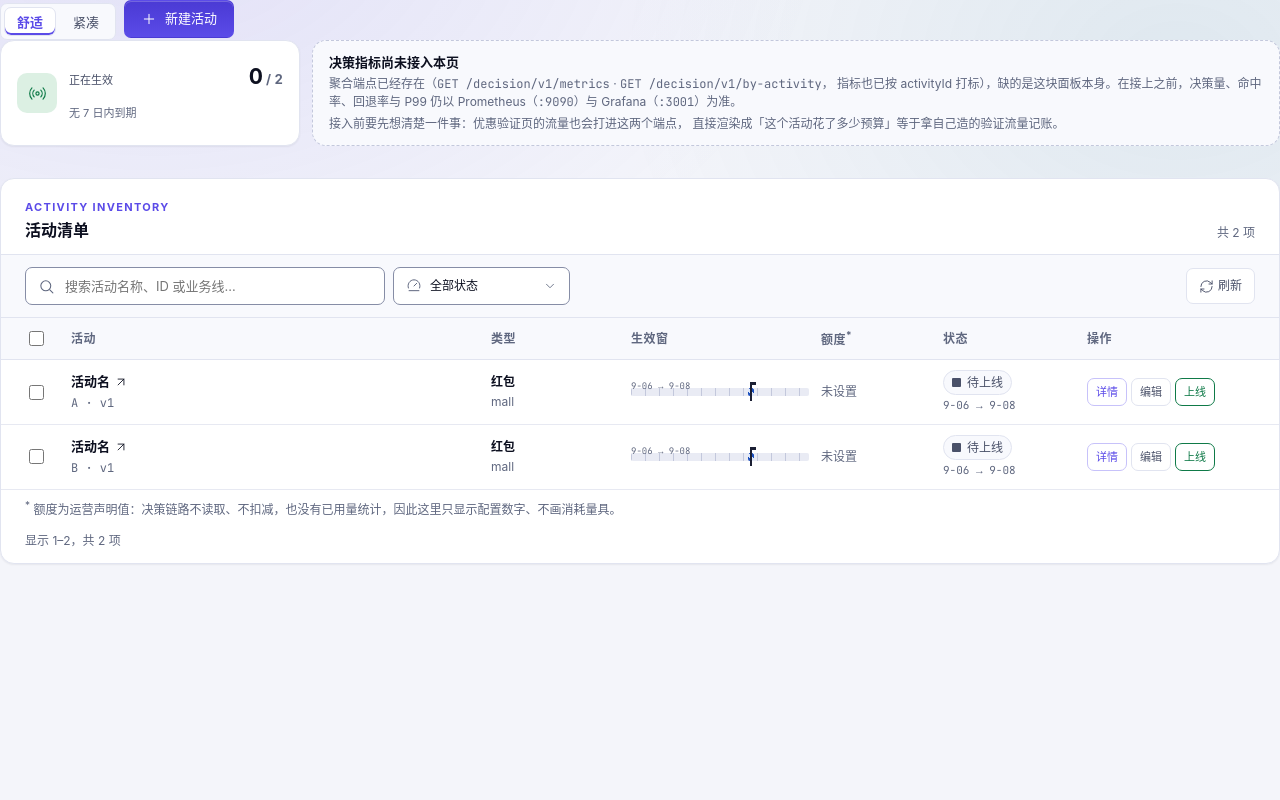
Test: ListView 工作台 › 勾选行后压出批量操作条并给出计数
This screenshot has width=1280, height=800.
Step 1. Click the checkbox with test id "row-check-A" → (36, 392), box [29,385,44,400]
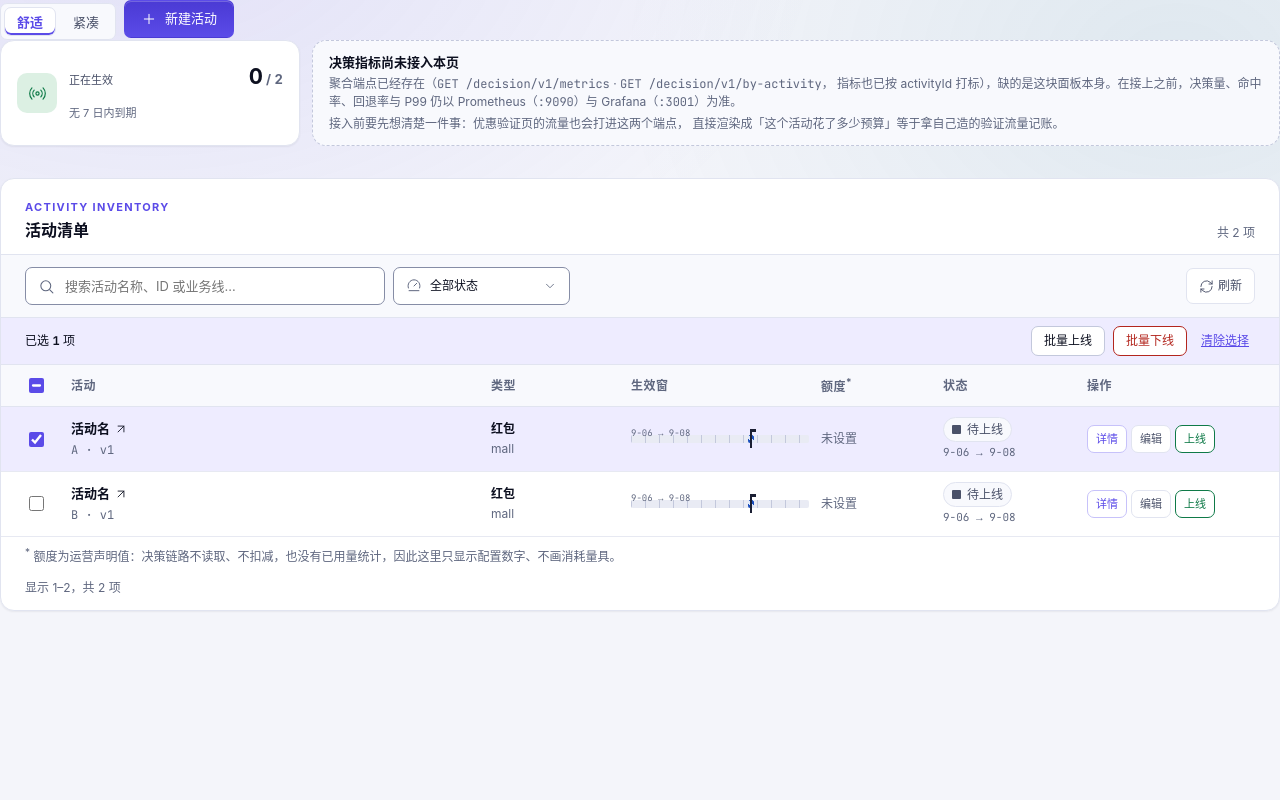
Expected: the element with test id "bulk-count" shows "1", [52,333,60,349]
Step 2. Click the checkbox with test id "select-page" → (36, 386), box [29,378,44,393]
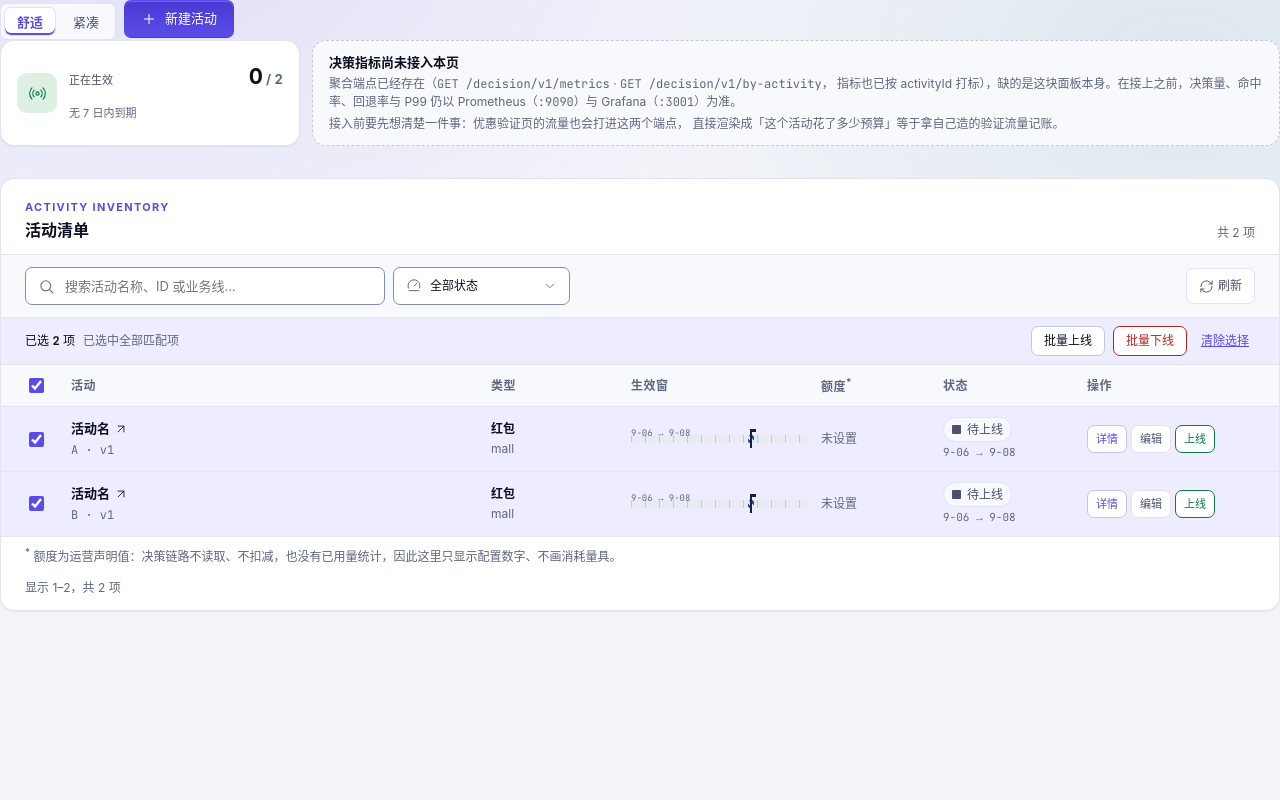
Expected: the element with test id "bulk-count" shows "2", [52,333,60,349]
